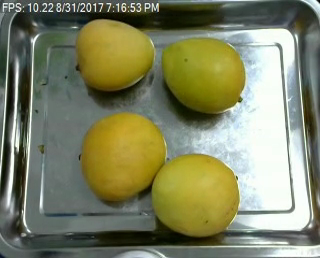Mango: (80, 112, 167, 201), (152, 153, 240, 235), (160, 37, 246, 113), (75, 19, 155, 90)
